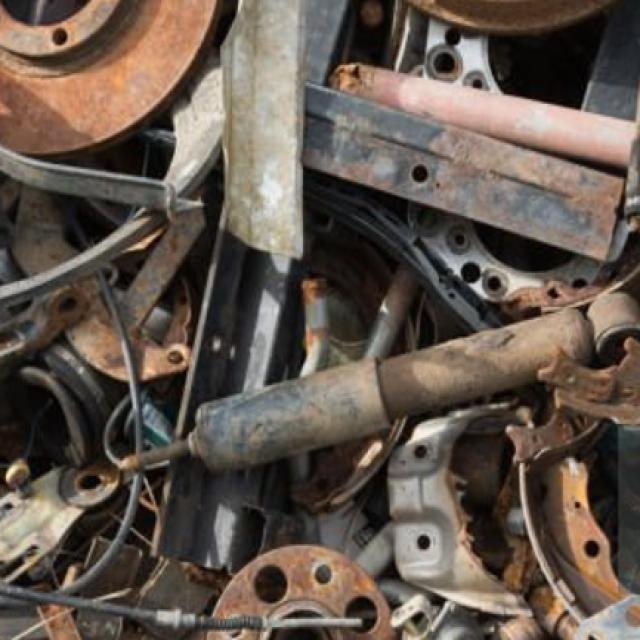shock absorber: (123, 292, 639, 474)
